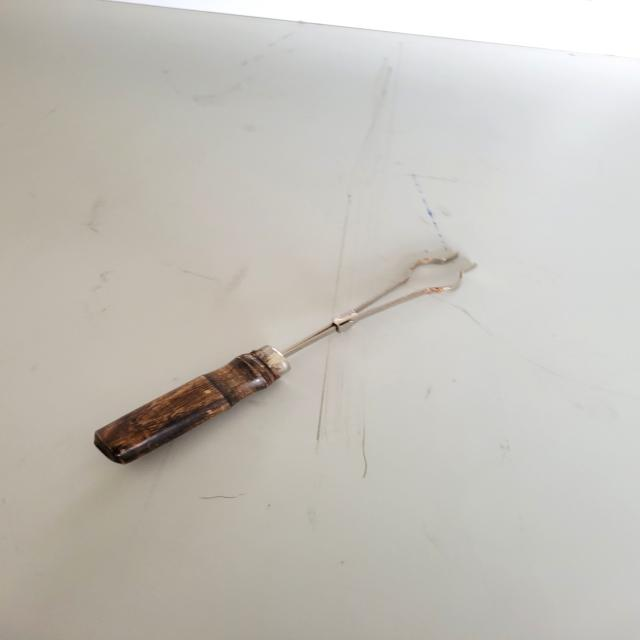TestTube_Holder: (43, 240, 493, 479)
